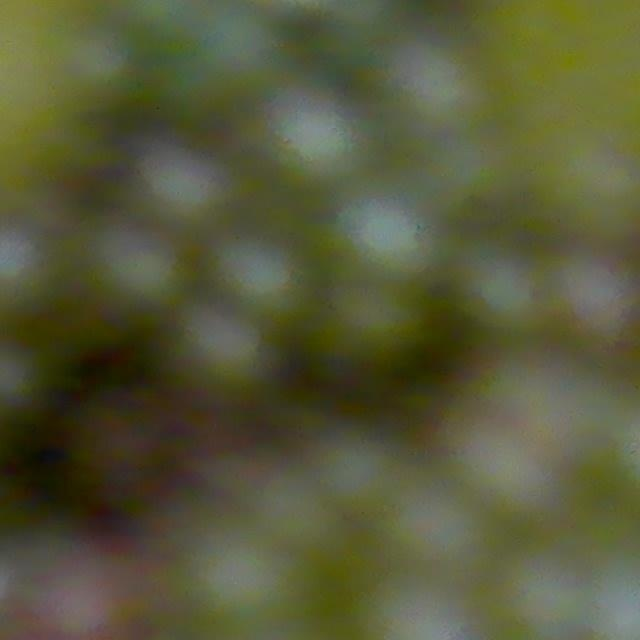SeaGrape: (330, 189, 434, 289), (262, 91, 363, 189), (213, 232, 314, 327), (453, 245, 551, 338), (193, 1, 285, 95), (175, 305, 270, 396), (552, 248, 640, 345), (137, 144, 231, 233), (330, 279, 427, 364), (309, 430, 401, 517), (103, 230, 191, 312)
